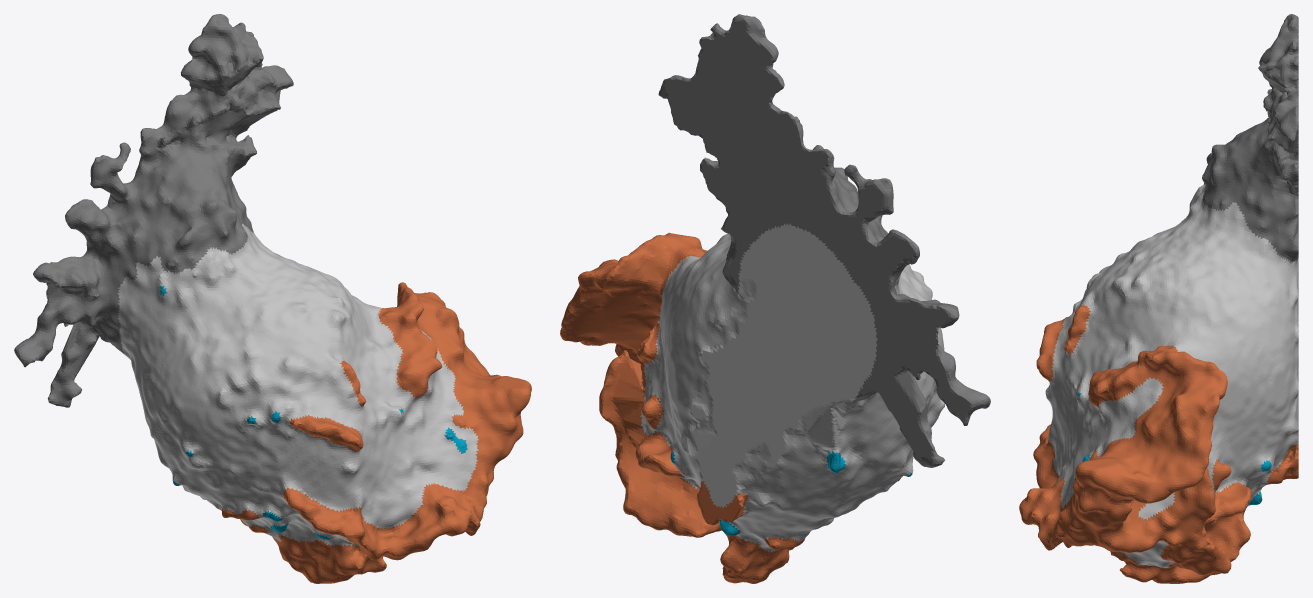
3 views of the same model, side by side, from view 1: azimuth 30°, elevation 25°; view 2: azimuth 150°, elevation 25°; view 3: azimuth 270°, elevation 25° (orthographic). The views are drawn at different scales.
Size of the model in its own units: 150 by 183 by 85.53.
